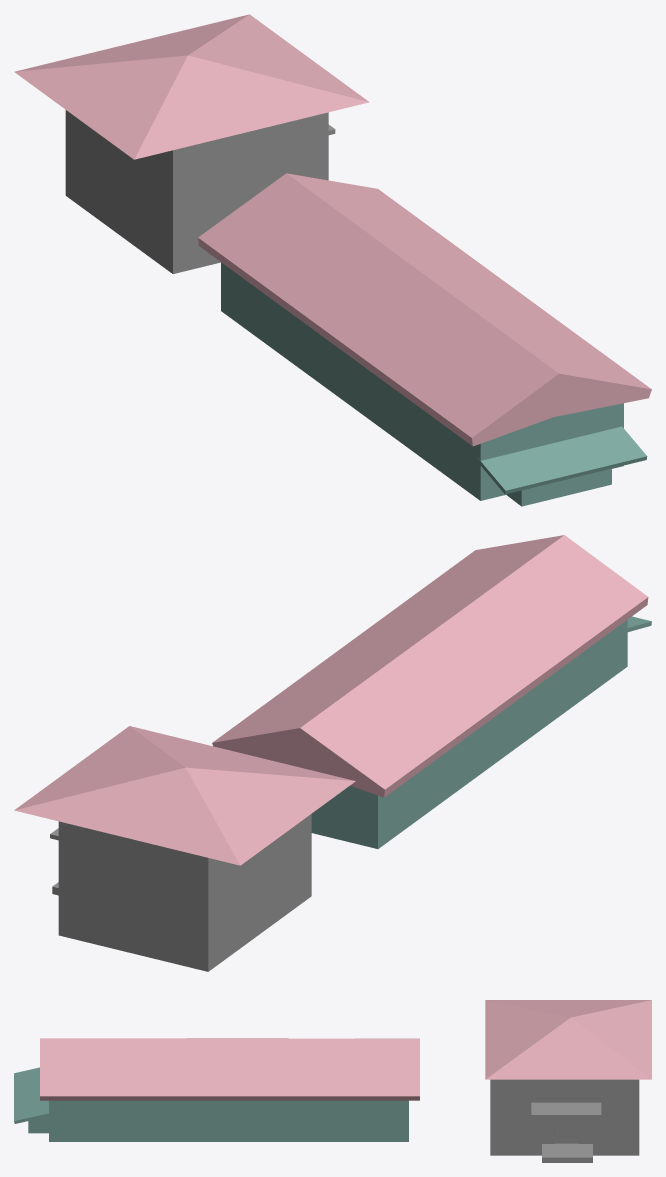
Rendered from MRF.glb.
3 renders of one model, top to bottom at view 1: azimuth 30°, elevation 25°; view 2: azimuth 150°, elevation 25°; view 3: azimuth 270°, elevation 25°, orthographic. The views are drawn at different scales.
Parts seen in each view (by area): view 1: Cube.003, Cube.005, Cube, Cube.004; view 2: Cube.003, Cube.004, Cube.005, Cube; view 3: Cube.003, Cube, Cube.005, Cube.004.
Boxes of the visible parts, x1,y1,x2,y2 form: Cube.003: [198, 173, 651, 446]; Cube.005: [14, 14, 369, 159]; Cube: [221, 262, 647, 506]; Cube.004: [65, 110, 335, 273]; Cube.003: [212, 535, 648, 797]; Cube.004: [50, 814, 311, 971]; Cube.005: [14, 726, 355, 865]; Cube: [311, 616, 651, 848]; Cube.003: [40, 1038, 419, 1100]; Cube: [14, 1067, 408, 1141]; Cube.005: [485, 1000, 651, 1079]; Cube.004: [490, 1079, 639, 1162].
Size of the model in its own units: 11.82 by 7.52 by 39.53.
